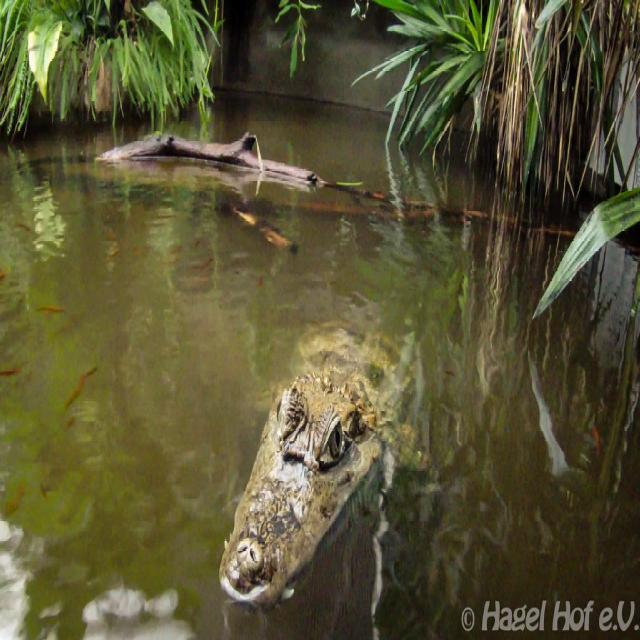crocodile: (157, 254, 460, 639)
